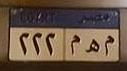2: (45, 33, 58, 56), (31, 32, 43, 56), (19, 32, 30, 56)
haa: (86, 37, 102, 55)
meem: (68, 31, 82, 58), (104, 35, 116, 56)
